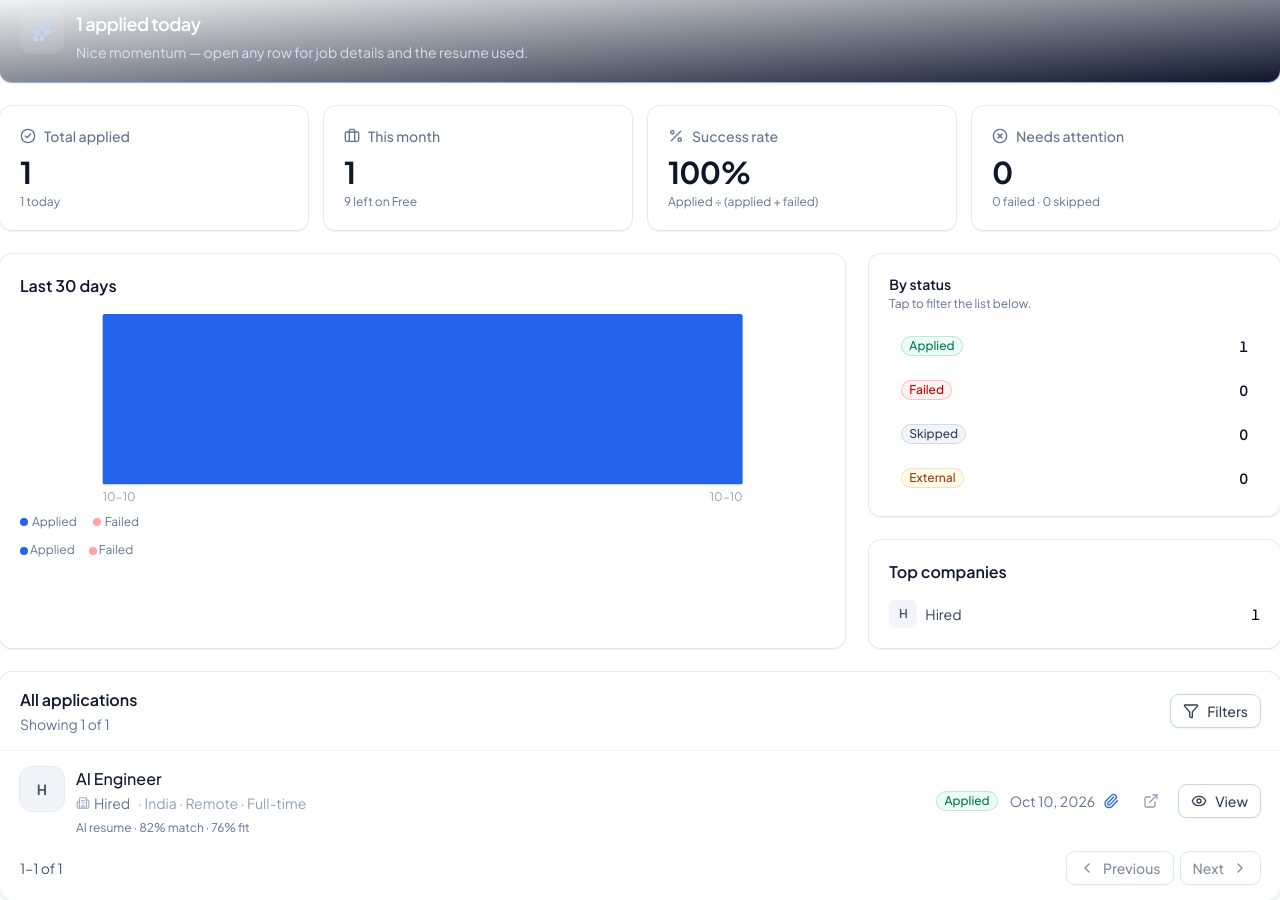
Test case: application view › opens a popup that shows the resume added for the job
(page scrolled)
Click the button "View" at (1220,802), box [1179,786,1260,818]
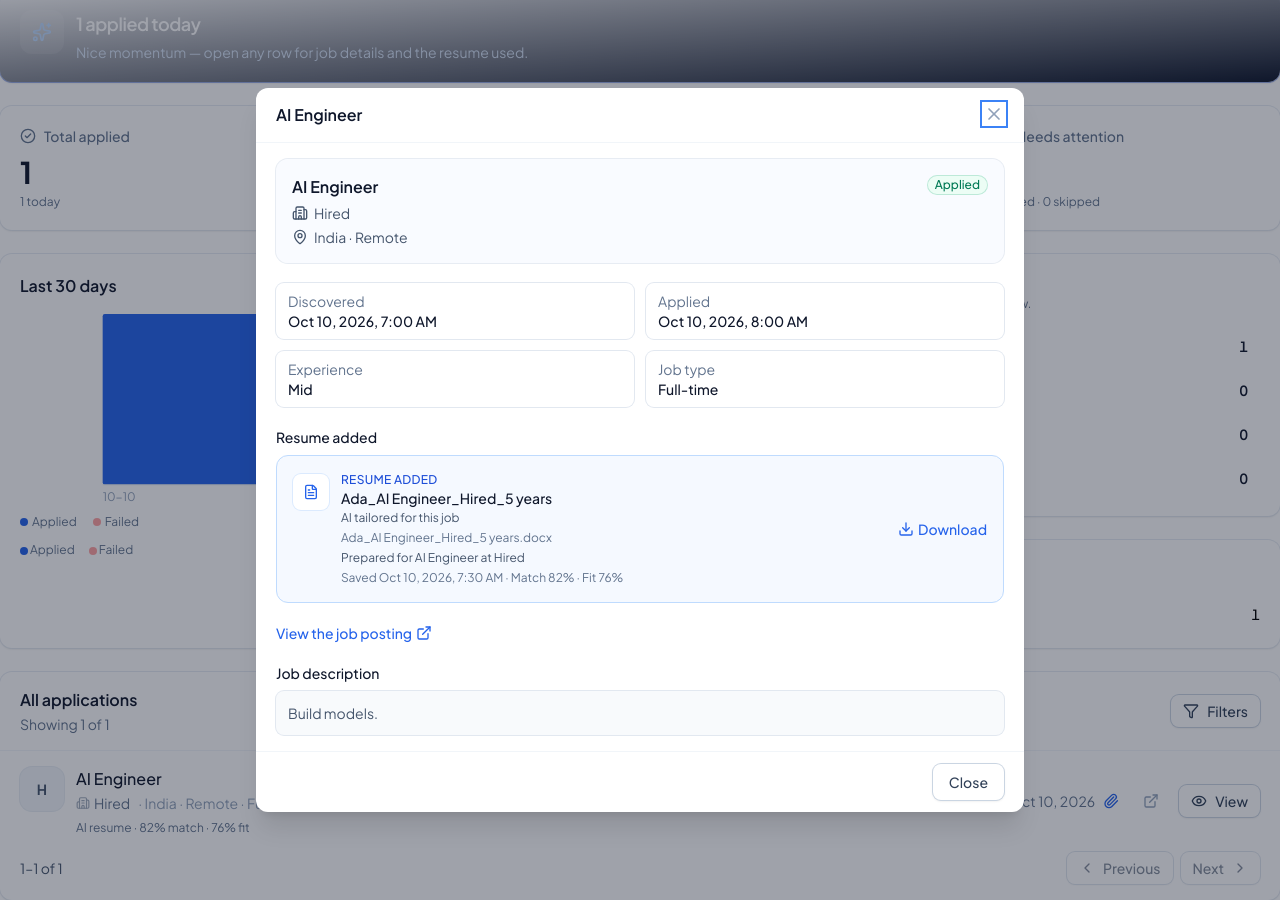
Check: the dialog shows "Resume added", box [276,428,377,446]
Check: the dialog shows "Ada_AI Engineer_Hired_5 years", box [341,489,552,507]
Check: the dialog shows "Prepared for AI Engineer at Hired", box [256,88,1024,812]
